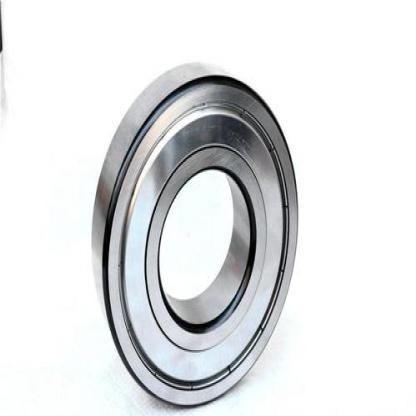FOD: (89, 53, 300, 415)
